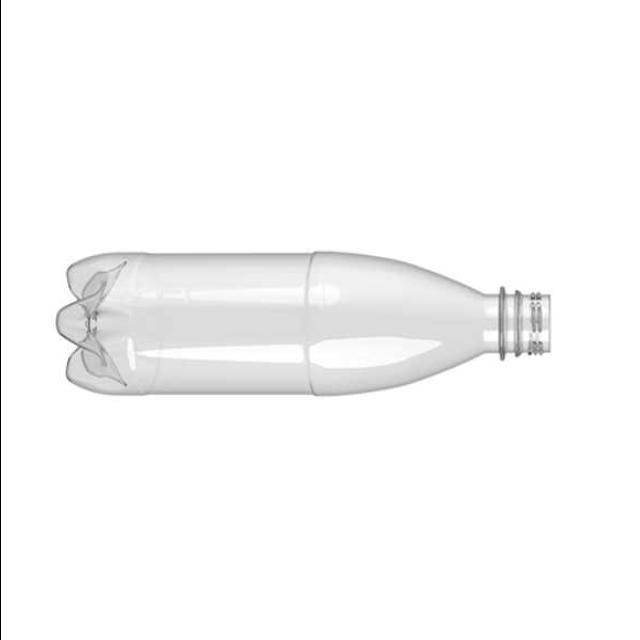bottom: (54, 244, 166, 404)
no_cap: (478, 280, 561, 374)
